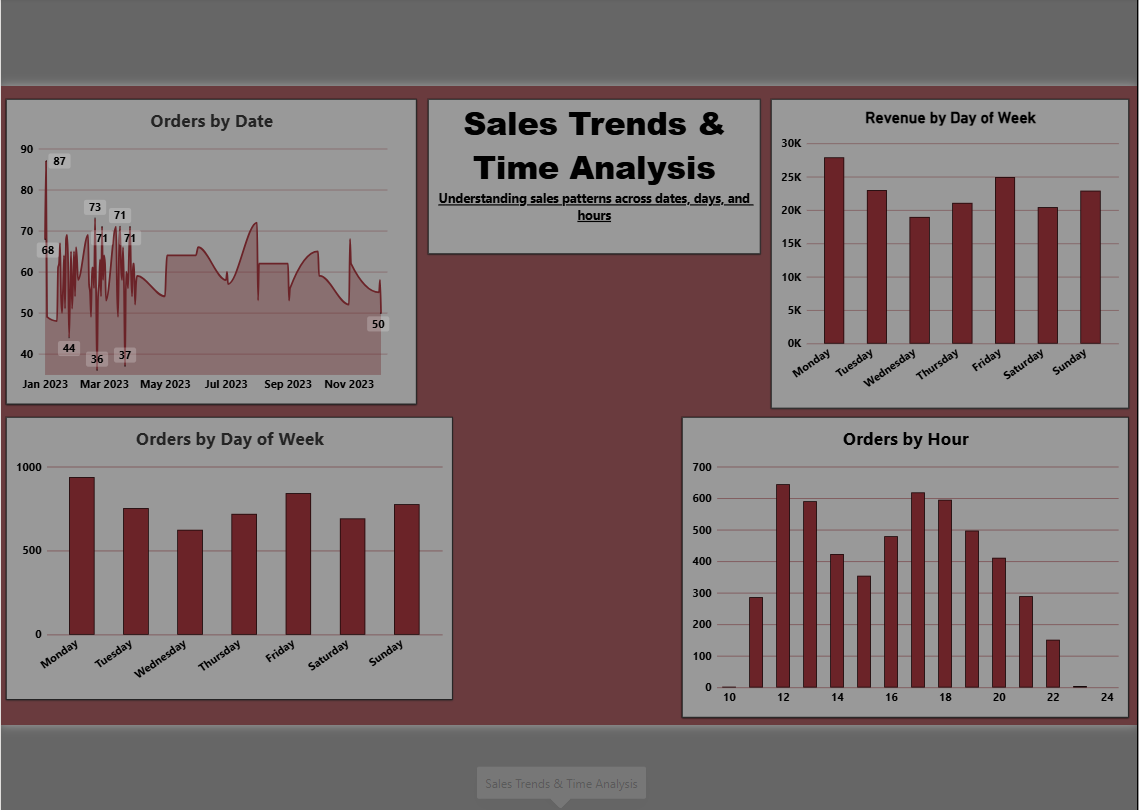

The dashboard page shown, as its layout file describes it:
{"tool":"powerbi","page":{"name":"Sales Trends & Time Analysis","canvas":[1920,1080],"ordinal":2},"visuals":[{"type":"lineChart","title":"Orders by Date","fields":{"Category":["order_details.order_date"],"Y":["order_details.Total Transactions"]},"box":[9.1,22.7,693.8,516.4],"z":0},{"type":"clusteredColumnChart","title":"Revenue by Day of Week","fields":{"Category":["order_details.Day Name"],"Y":["order_details.Total Revenue"]},"box":[1301.2,22.7,605.1,523.2],"z":1},{"type":"clusteredColumnChart","title":"Orders by Day of Week","fields":{"Category":["order_details.Day Name"],"Y":["order_details.Total Transactions"]},"box":[9.1,559.6,755.3,477.7],"z":2},{"type":"clusteredColumnChart","title":"Orders by Hour","fields":{"Category":["order_details.Order Hour"],"Y":["order_details.Total Transactions"]},"box":[1151.1,559.6,755,508],"z":3},{"type":"textbox","box":[721.1,22.7,561.9,261.6],"z":4}]}

Visuals, with their boxes on the page's 1920x1080 design canvas (x1, y1, x2, y2). These are canvas units, not pixel positions in the 1139x810 screenshot, which may show the page scaled, cropped or inside an application window:
"Orders by Date" lineChart: box(9, 23, 703, 539)
"Revenue by Day of Week" clusteredColumnChart: box(1301, 23, 1906, 546)
"Orders by Day of Week" clusteredColumnChart: box(9, 560, 764, 1037)
"Orders by Hour" clusteredColumnChart: box(1151, 560, 1906, 1068)
textbox: box(721, 23, 1283, 284)
